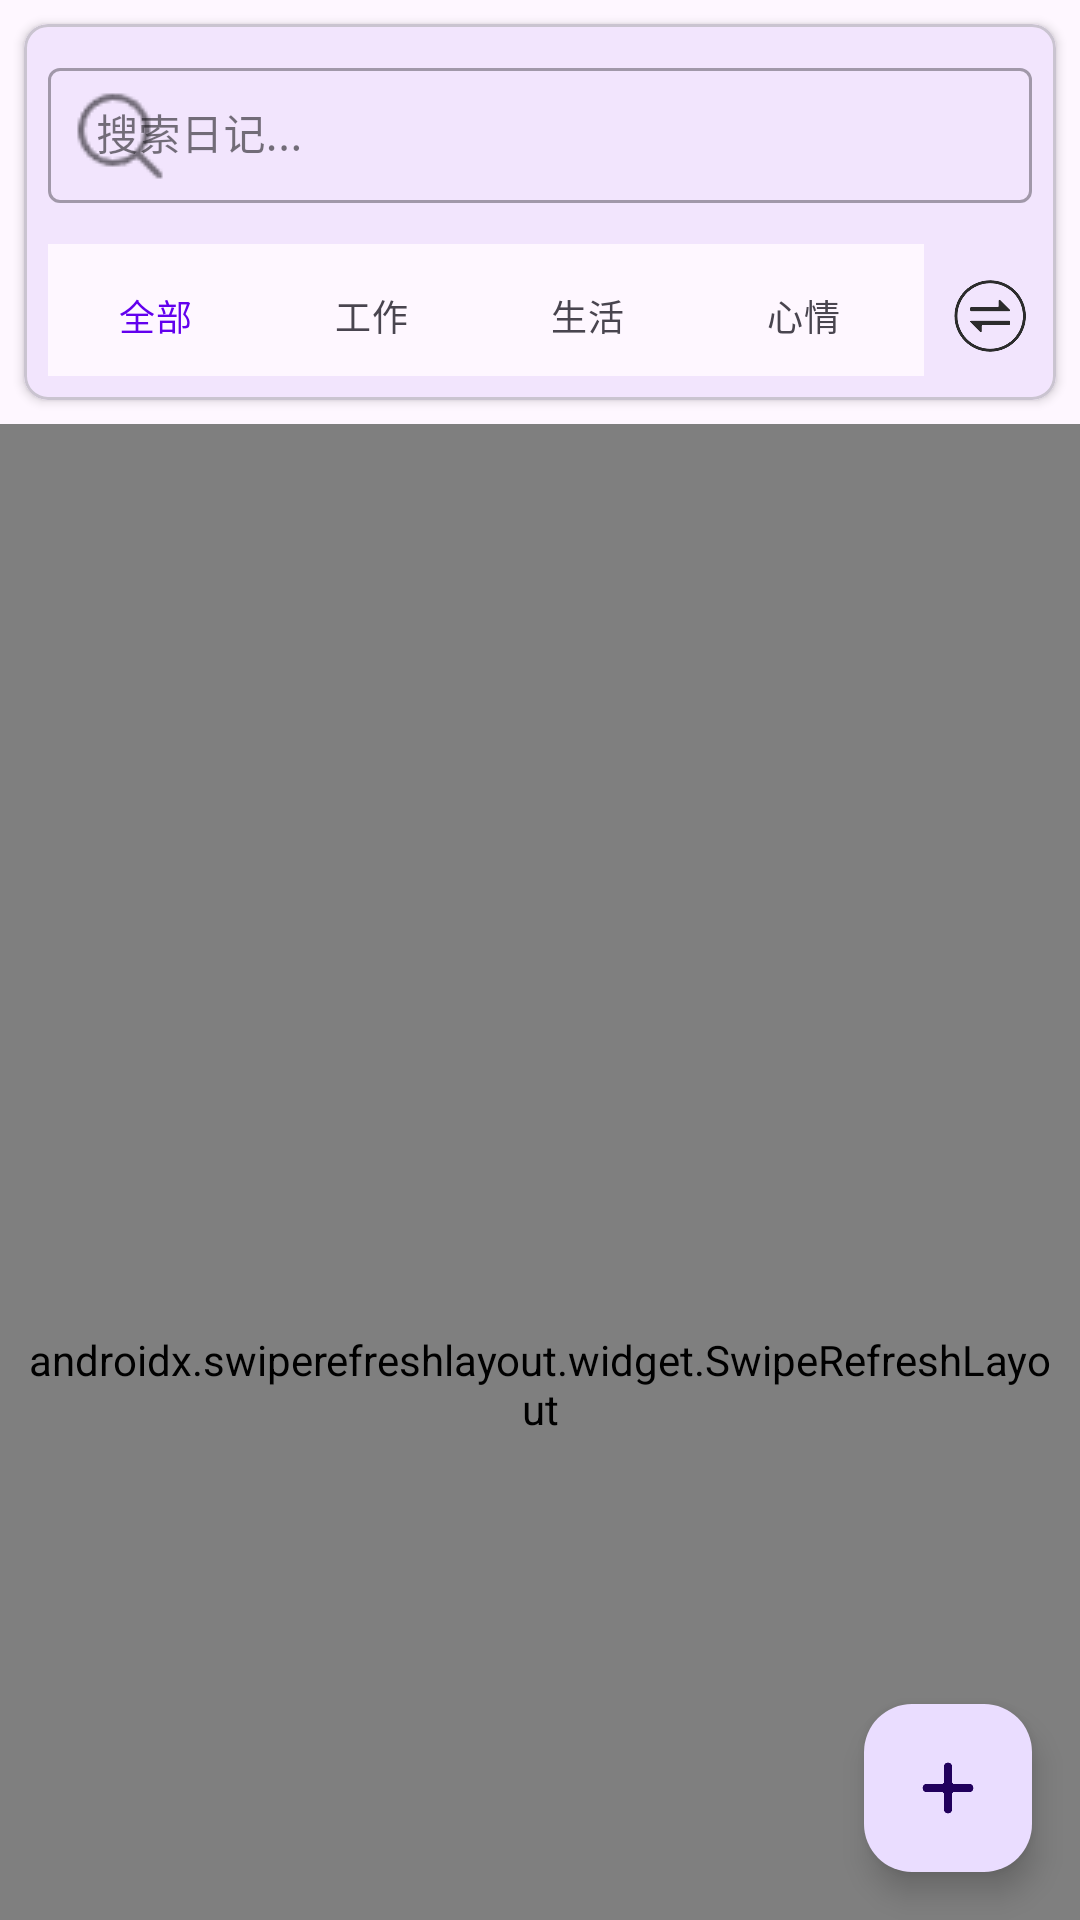

Locate icon controls on the screen. Image size 1080px×1920px, boxes as (x1, y1, x2, y2).
add: (864, 1704, 1032, 1872)
change: (954, 280, 1026, 352)
